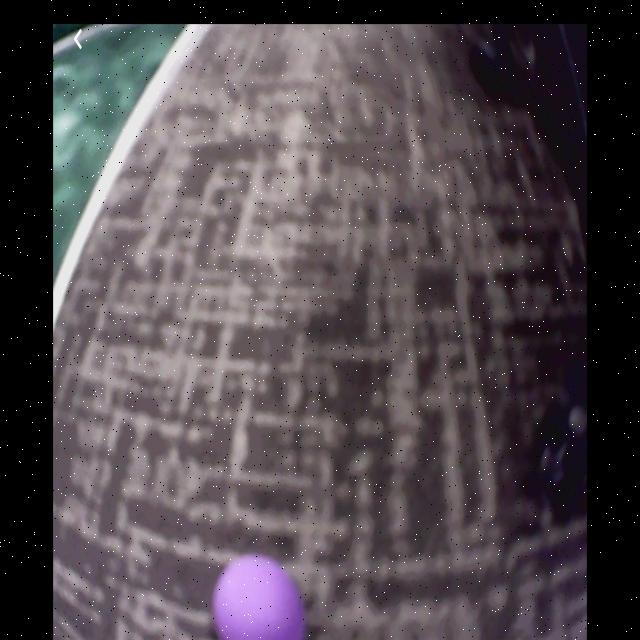ball: (212, 553, 308, 637)
